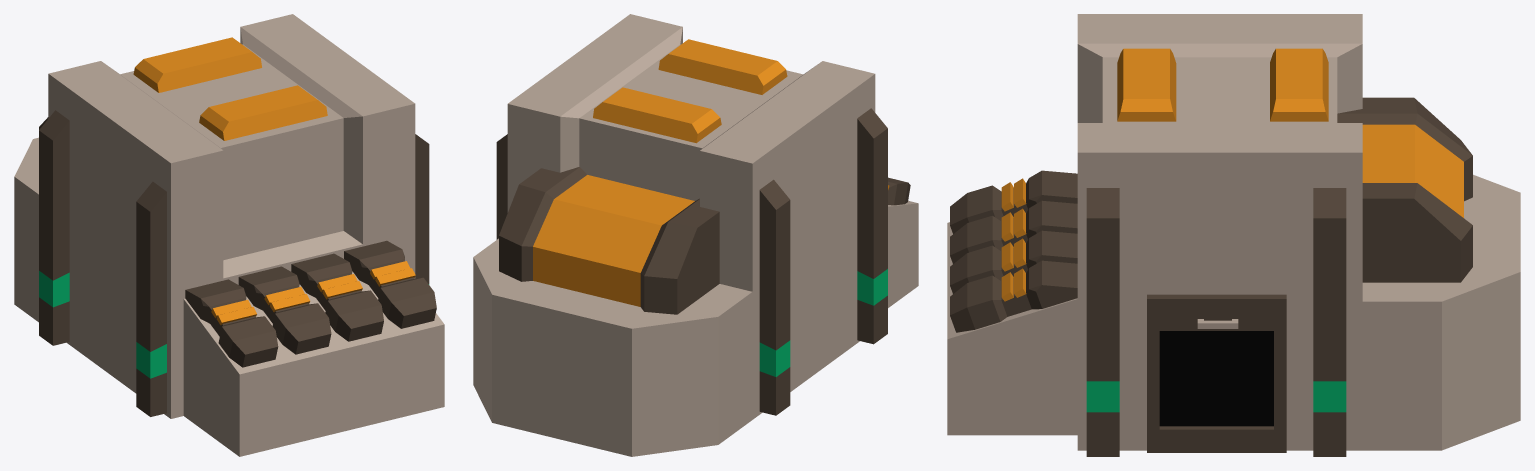
Rendered from Factory.fbx.
3 views of the same model, side by side, from view 1: azimuth 30°, elevation 25°; view 2: azimuth 150°, elevation 25°; view 3: azimuth 270°, elevation 25° (orthographic). The views are drawn at different scales.
Visible parts, largest first — view 1: Factory_Mesh; view 2: Factory_Mesh; view 3: Factory_Mesh.
Boxes of the visible parts, bbox=[...] form: Factory_Mesh: bbox=[14, 14, 444, 456]; Factory_Mesh: bbox=[473, 14, 918, 456]; Factory_Mesh: bbox=[947, 14, 1520, 456].
Bounding box in the file's own units: 6542 × 10015 × 5921.
